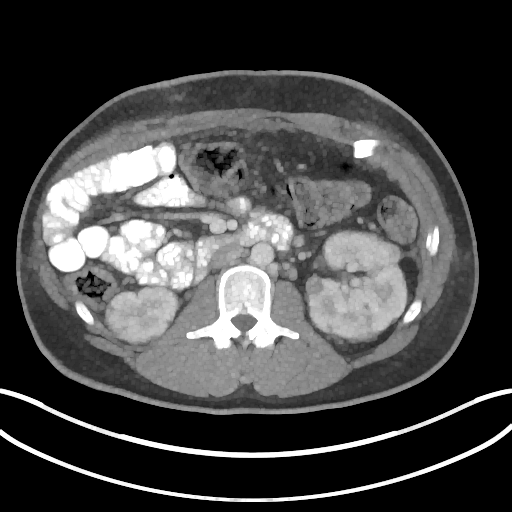Lesion: (302, 275, 326, 296)
